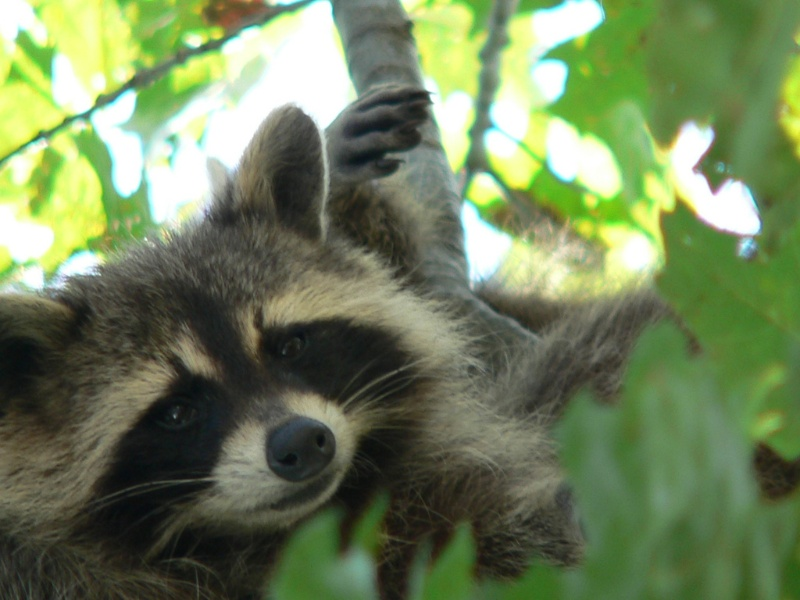raccoon: (3, 70, 800, 575)
